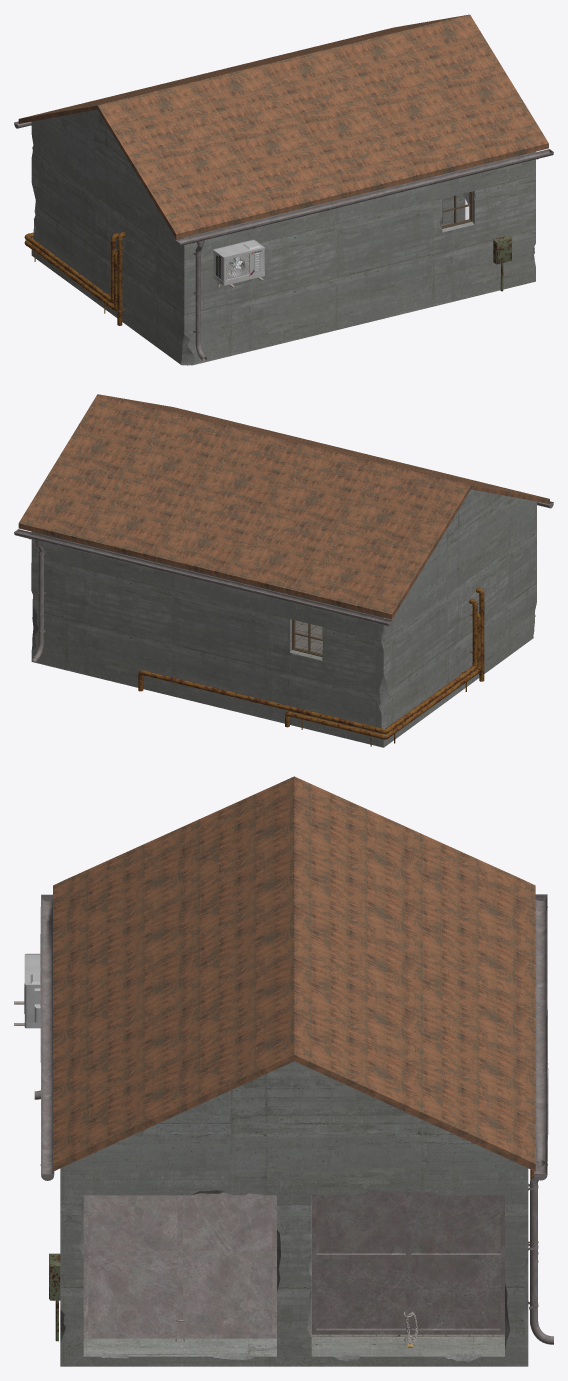
3 views of the same model, one above another, from view 1: azimuth 30°, elevation 25°; view 2: azimuth 150°, elevation 25°; view 3: azimuth 270°, elevation 25° (orthographic). The views are drawn at different scales.
Visible parts, largest first — view 1: Bati_ext, Toit, Goutierres, Tuyaux, clim, Fenetres, Compteur; view 2: Bati_ext, Toit, Tuyaux, Goutierres, Sol, Parties_wreck, Fenetres; view 3: Toit, Bati_ext, Porte_gauche, Porte_droite, Goutierres, Parties_wreck, clim, Compteur, Sol.
Boxes of the visible parts, x1,y1,x2,y2 form: Bati_ext: (31, 109, 535, 365); Toit: (18, 14, 548, 239); Goutierres: (14, 121, 553, 361); Tuyaux: (24, 232, 125, 325); clim: (213, 239, 264, 285); Fenetres: (441, 192, 469, 225); Compteur: (493, 235, 512, 291); Bati_ext: (31, 489, 536, 747); Toit: (18, 394, 549, 619); Tuyaux: (138, 587, 484, 746); Goutierres: (14, 501, 553, 661); Sol: (295, 620, 322, 653); Parties_wreck: (31, 592, 388, 728); Fenetres: (295, 620, 322, 653); Toit: (53, 776, 535, 1171); Bati_ext: (60, 1061, 528, 1366); Porte_gauche: (83, 1192, 276, 1338); Porte_droite: (312, 1190, 504, 1334); Goutierres: (34, 894, 553, 1344); Parties_wreck: (60, 1189, 528, 1361); clim: (24, 953, 40, 1028); Compteur: (49, 1253, 60, 1341); Sol: (311, 1195, 504, 1336).
Size of the model in its own units: 7.26 by 3.86 by 5.92.
16 materials, 16 textured.
